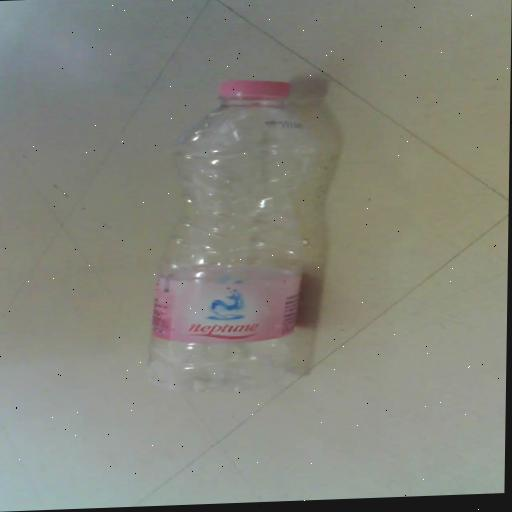bottle: (128, 69, 333, 412)
